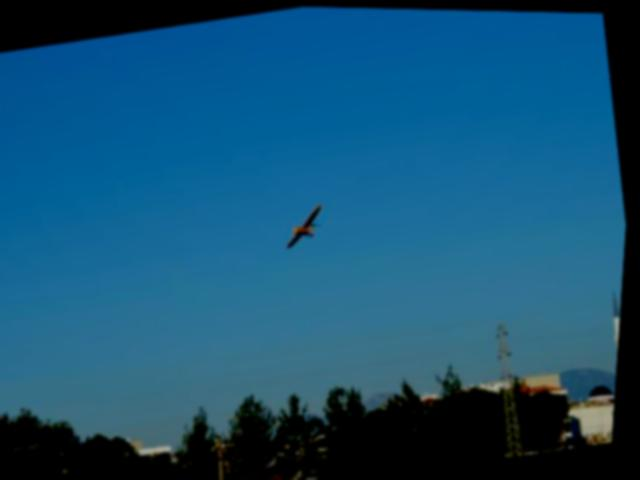iha: (285, 203, 328, 247)
